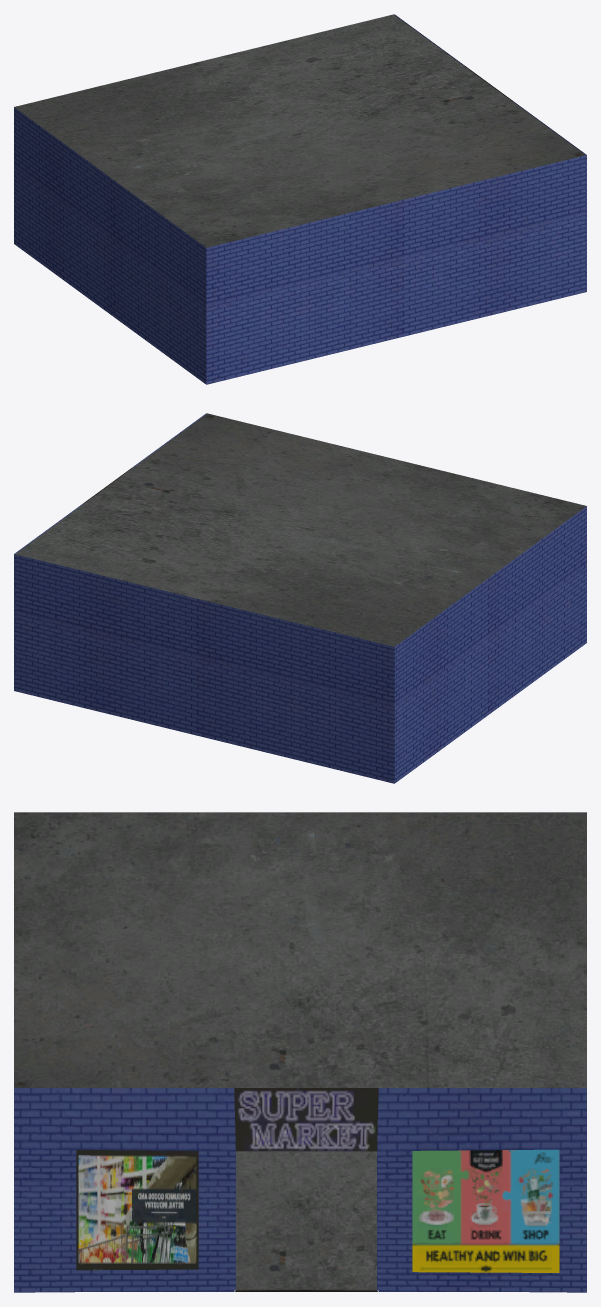
Rendered from Super_market_1 (1).fbx.
3 renders of one model, top to bottom at view 1: azimuth 30°, elevation 25°; view 2: azimuth 150°, elevation 25°; view 3: azimuth 270°, elevation 25°, orthographic. The views are drawn at different scales.
Visible parts, largest first — view 1: Super_market_1 (1); view 2: Super_market_1 (1); view 3: Super_market_1 (1).
Part boxes in pixels (left/top/right/bottom): Super_market_1 (1): left=14, top=14, right=586, bottom=384; Super_market_1 (1): left=14, top=413, right=586, bottom=783; Super_market_1 (1): left=14, top=812, right=586, bottom=1292.
Bounding box in the file's own units: 17.38 × 5.98 × 15.23.
